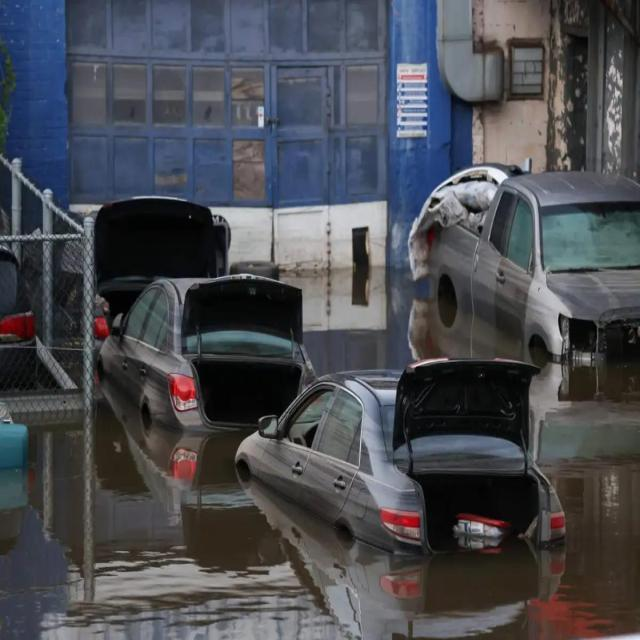water: (1, 400, 639, 639), (274, 260, 548, 371)
